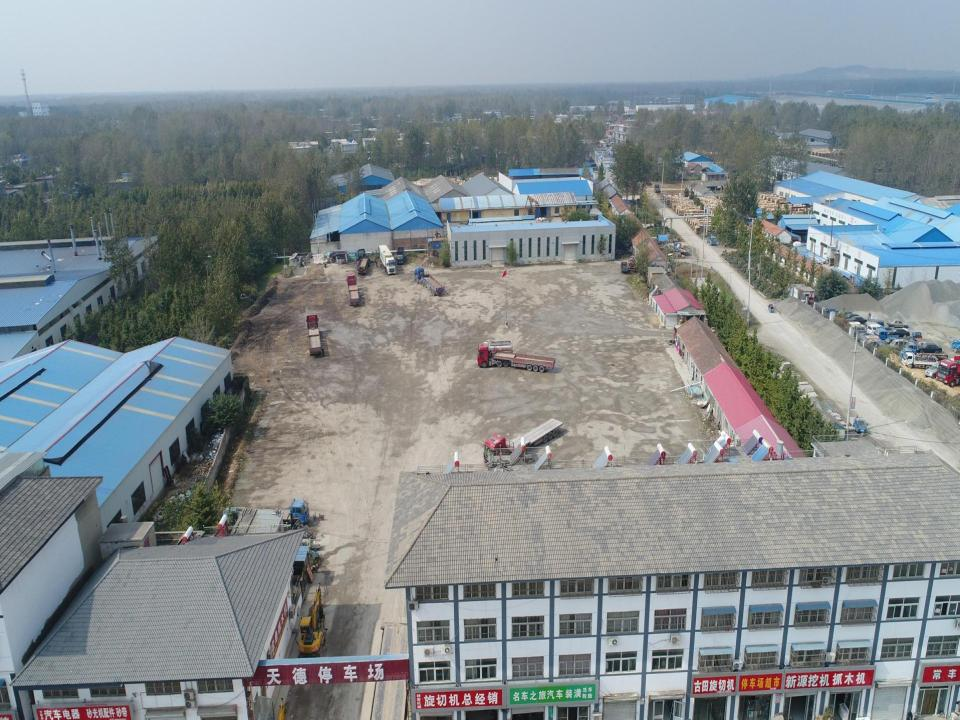car: (926, 363, 948, 377), (880, 335, 899, 351), (917, 342, 942, 354), (887, 327, 910, 340), (886, 318, 908, 330), (846, 315, 866, 326), (842, 313, 860, 324), (856, 331, 874, 342), (882, 325, 898, 335), (839, 310, 855, 318)
truck: (481, 417, 566, 463), (239, 496, 310, 530), (474, 342, 556, 371), (302, 312, 327, 359), (904, 340, 950, 363), (896, 345, 948, 365), (412, 266, 445, 296), (901, 350, 938, 370), (377, 243, 397, 274), (345, 272, 361, 306), (354, 248, 371, 275), (877, 330, 899, 345), (912, 330, 926, 349), (673, 240, 688, 255), (395, 245, 406, 264), (705, 234, 717, 246), (620, 260, 630, 274), (654, 182, 662, 195)
van: (858, 334, 880, 348), (865, 338, 885, 353), (890, 339, 909, 353), (861, 321, 881, 333), (872, 341, 887, 354), (848, 320, 864, 332), (867, 318, 884, 329), (867, 325, 883, 334), (867, 311, 878, 324)
